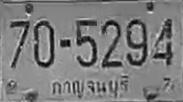0: (33, 20, 54, 67)
2: (101, 19, 121, 66)
4: (152, 18, 173, 66)
5: (75, 19, 96, 66)
7: (9, 20, 30, 68)
9: (126, 18, 147, 65)
KRI: (49, 75, 132, 100)
